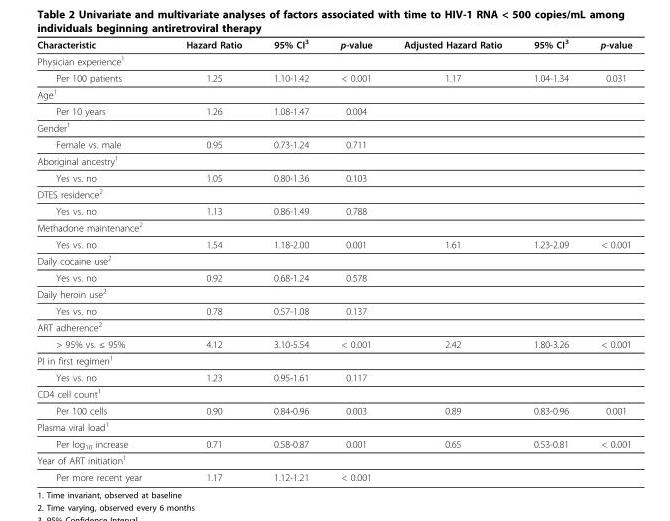table: (36, 37, 631, 482)
table column: (387, 37, 517, 482), (36, 37, 163, 482), (163, 37, 257, 482), (257, 37, 323, 482), (517, 37, 583, 482), (323, 37, 387, 482), (583, 37, 631, 482)
table column header: (36, 37, 631, 52)
table projected row header: (36, 151, 631, 169), (36, 251, 631, 269), (36, 284, 631, 302), (36, 384, 631, 402), (36, 417, 631, 435), (36, 52, 631, 69), (36, 85, 631, 102), (36, 118, 631, 135), (36, 185, 631, 202), (36, 218, 631, 235), (36, 318, 631, 335), (36, 351, 631, 368), (36, 451, 631, 468)
table row: (36, 151, 631, 169), (36, 251, 631, 269), (36, 284, 631, 302), (36, 384, 631, 402), (36, 417, 631, 435), (36, 52, 631, 69), (36, 85, 631, 102), (36, 118, 631, 135), (36, 185, 631, 202), (36, 218, 631, 235), (36, 318, 631, 335), (36, 351, 631, 368), (36, 451, 631, 468), (36, 69, 631, 85), (36, 102, 631, 118), (36, 135, 631, 151), (36, 169, 631, 185), (36, 202, 631, 218), (36, 235, 631, 251), (36, 302, 631, 318), (36, 335, 631, 351), (36, 368, 631, 384), (36, 435, 631, 451), (36, 37, 631, 52), (36, 269, 631, 284), (36, 402, 631, 417), (36, 468, 631, 482)
